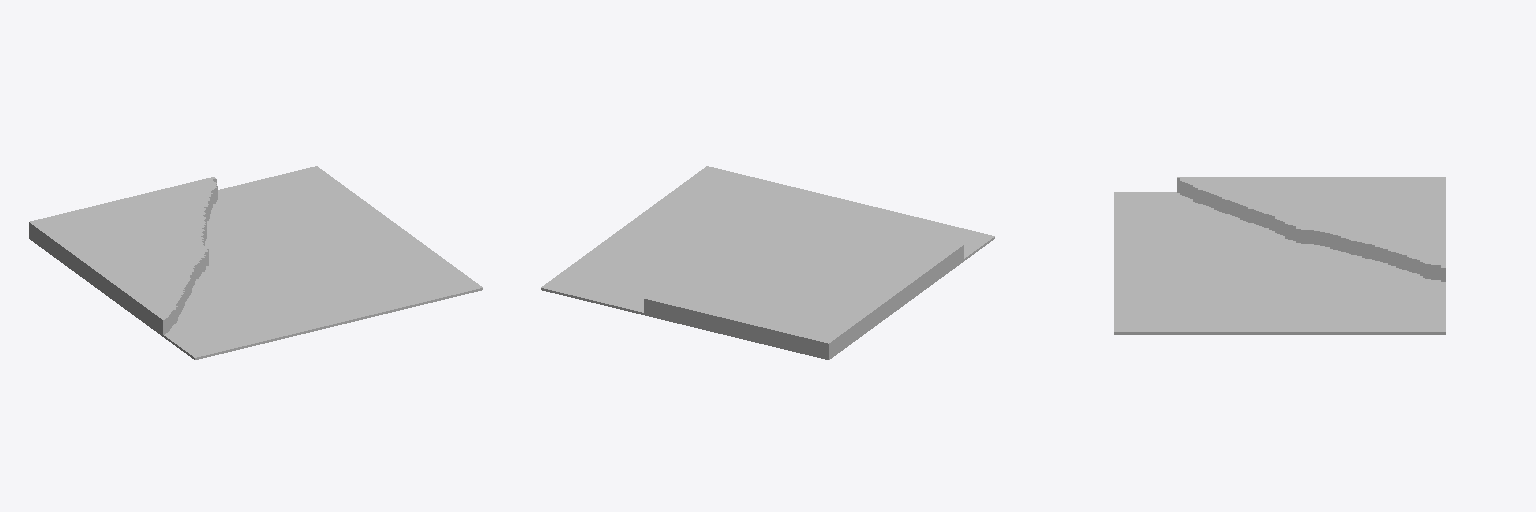
The model's file is Main Island 02.obj.
3 views of the same model, side by side, from view 1: azimuth 30°, elevation 25°; view 2: azimuth 150°, elevation 25°; view 3: azimuth 270°, elevation 25° (orthographic).
Parts seen in each view (by area): view 1: Light House-6; view 2: Light House-6; view 3: Light House-6.
Part boxes in pixels (x1,y1,x2,y2): Light House-6: (29,166,482,359); Light House-6: (541,166,994,359); Light House-6: (1114,177,1445,334).
Size of the model in its own units: 126 by 7 by 126.